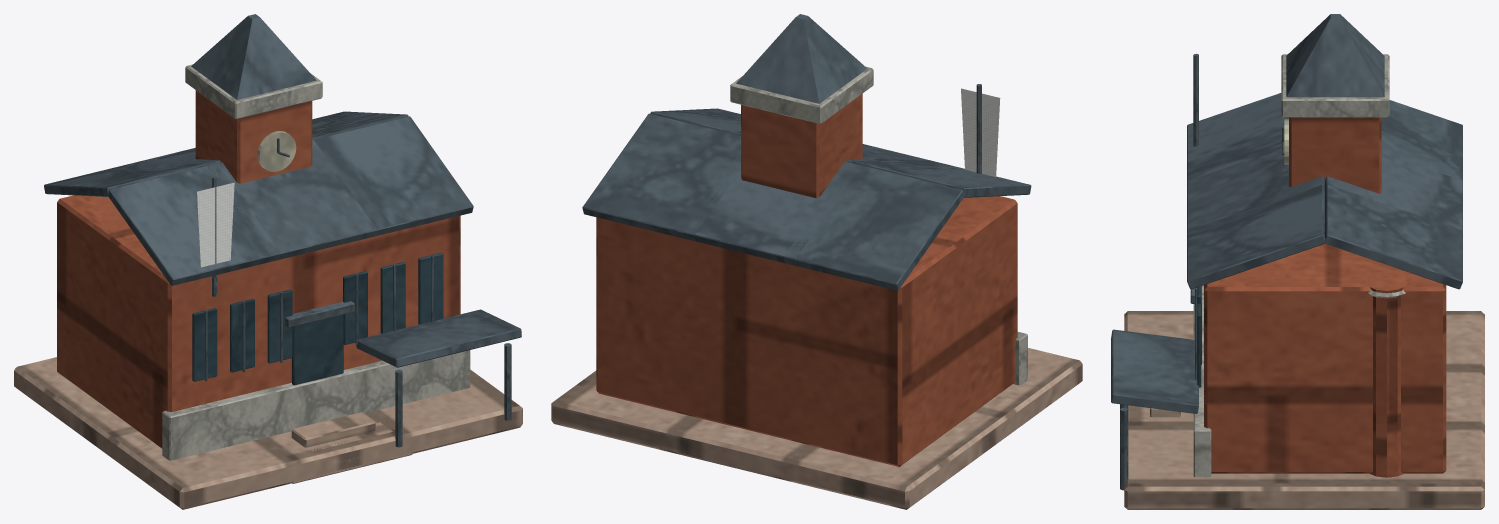
Rendered from edificio-center-e4-Dn5_RflA.glb.
The picture shows the model from 3 angles, left to right: view 1: azimuth 30°, elevation 25°; view 2: azimuth 150°, elevation 25°; view 3: azimuth 270°, elevation 25°; orthographic projection. The views are drawn at different scales.
Parts seen in each view (by area): view 1: centro_e4_mamposteria, centro_e4_cubierta_detalles, centro_e4_estructura, centro_e4_team_color; view 2: centro_e4_mamposteria, centro_e4_cubierta_detalles, centro_e4_estructura, centro_e4_team_color; view 3: centro_e4_mamposteria, centro_e4_cubierta_detalles, centro_e4_estructura.
Part boxes in pixels (x1,y1,x2,y2): centro_e4_mamposteria: (14,90,522,509); centro_e4_cubierta_detalles: (44,14,521,385); centro_e4_estructura: (162,64,511,460); centro_e4_team_color: (197,182,234,267); centro_e4_mamposteria: (551,93,1082,509); centro_e4_cubierta_detalles: (582,14,1031,290); centro_e4_estructura: (730,66,1027,385); centro_e4_team_color: (961,88,1000,176); centro_e4_mamposteria: (1124,117,1484,509); centro_e4_cubierta_detalles: (1111,14,1462,413); centro_e4_estructura: (1120,53,1405,490).
Size of the model in its own units: 82 by 87 by 72.53.
Materials: 4 (4 with a texture image).
